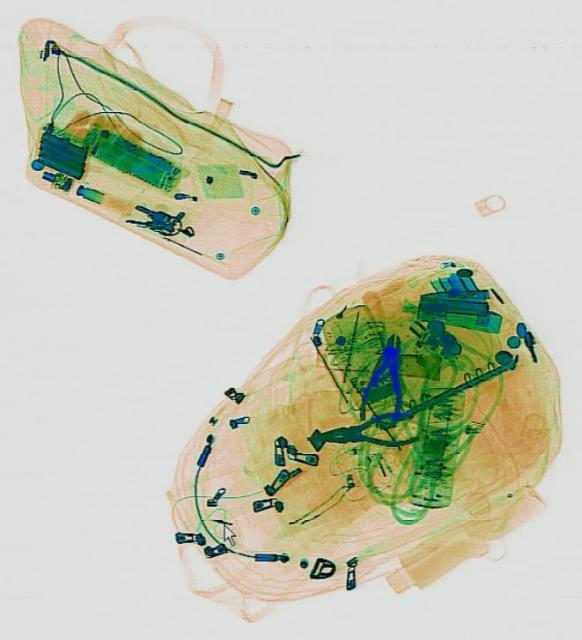Pliers: (355, 329, 411, 426), (307, 410, 418, 452)
